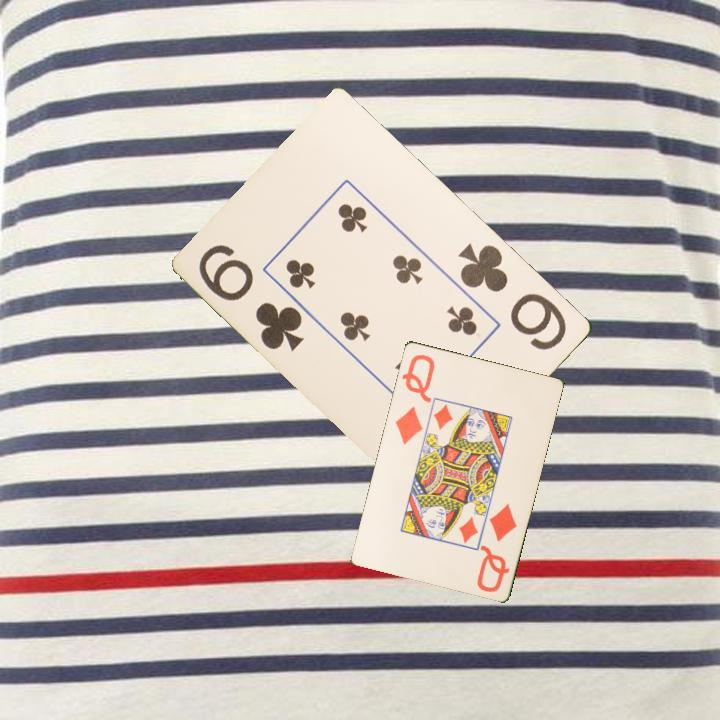6c: (455, 239, 570, 354), (195, 240, 308, 354)
Qd: (391, 350, 438, 447), (473, 499, 520, 595)
